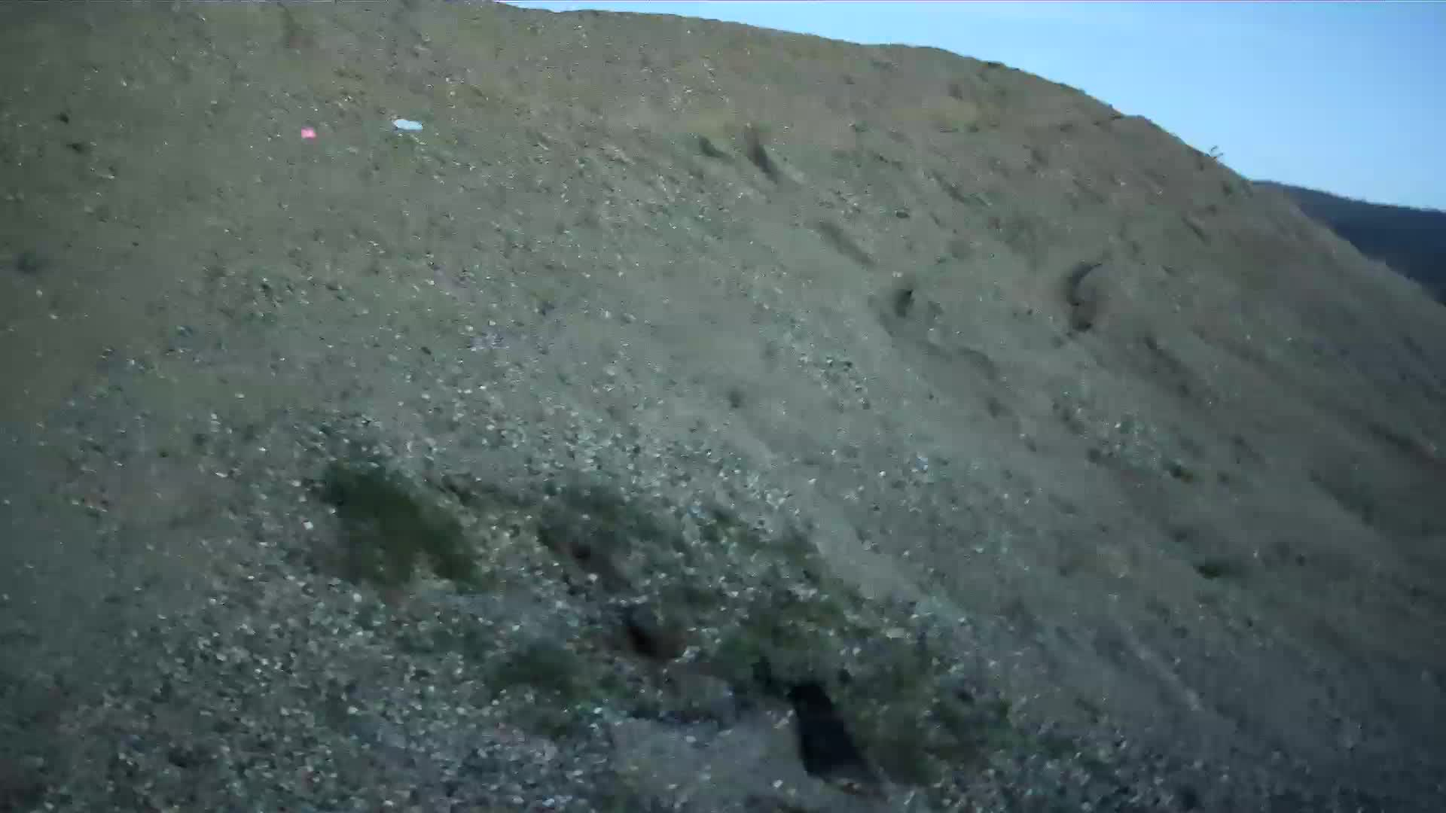Target: (392, 119, 425, 131)
